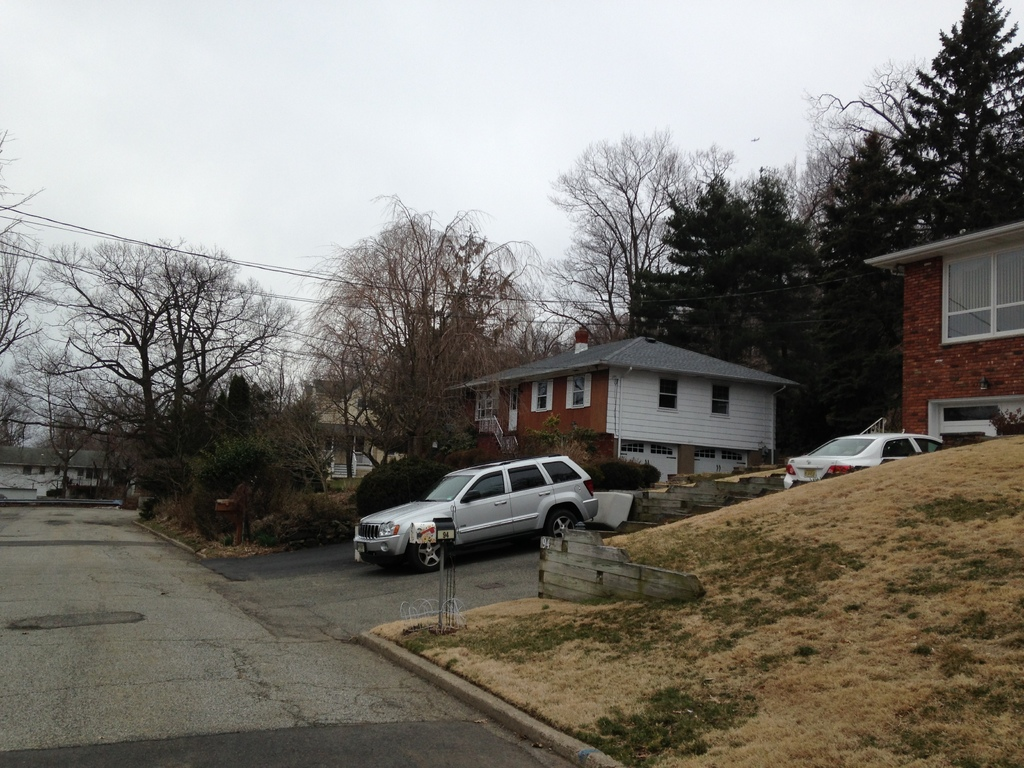Car: (347, 446, 594, 570), (785, 424, 938, 489)
